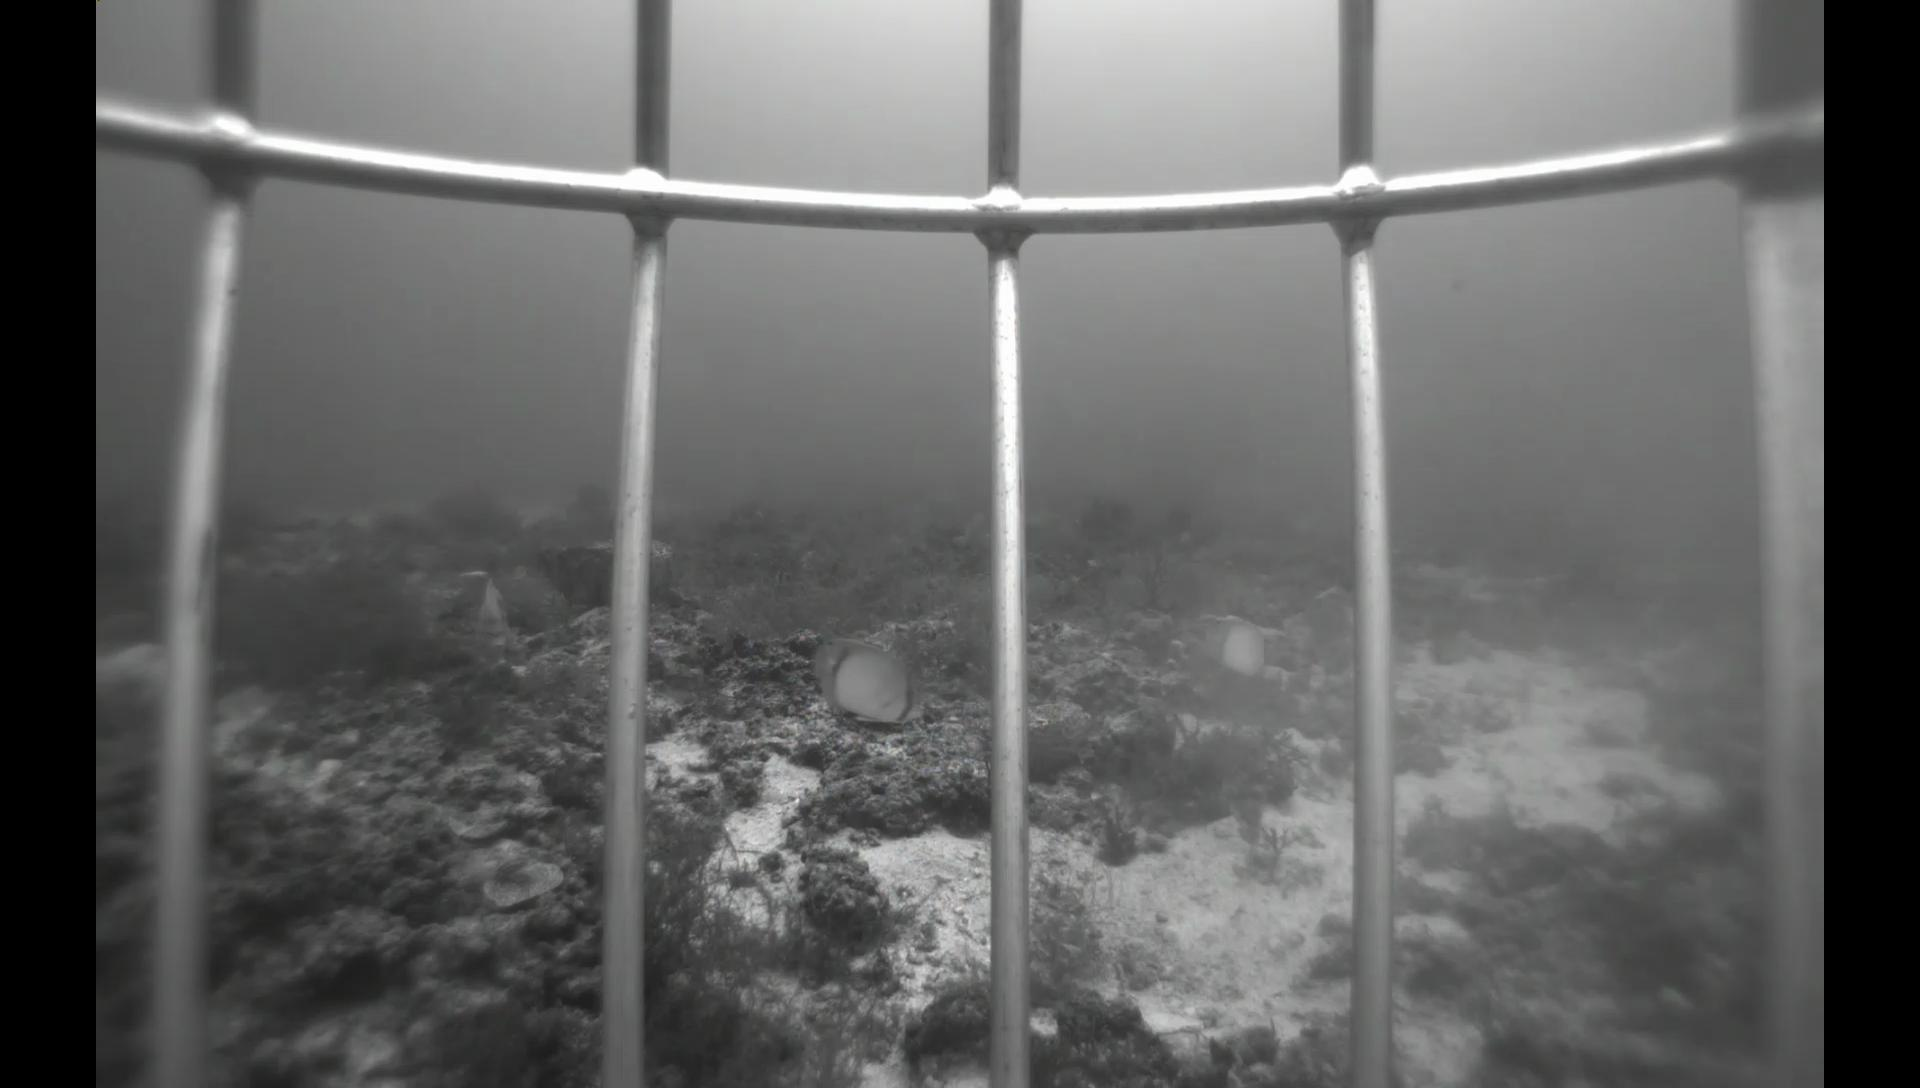CHAETODONOCELLATUS-170260307: (794, 632, 932, 729), (1192, 611, 1290, 692)
HOLACANTHUSBERMUDENSIS-170290102: (440, 557, 538, 680)
MYCTEROPERCAPHENAX-170022105: (943, 510, 992, 555)
